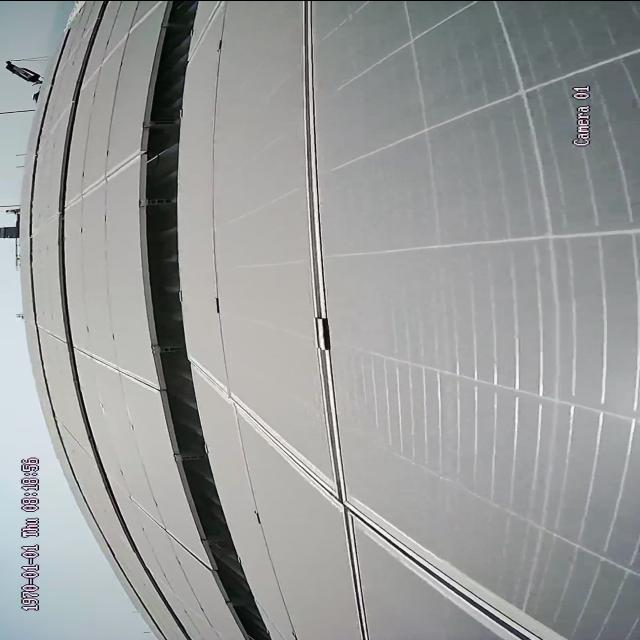interior panel: (204, 10, 571, 640), (73, 340, 151, 391), (70, 154, 132, 209)
outher panel: (139, 0, 274, 639)
